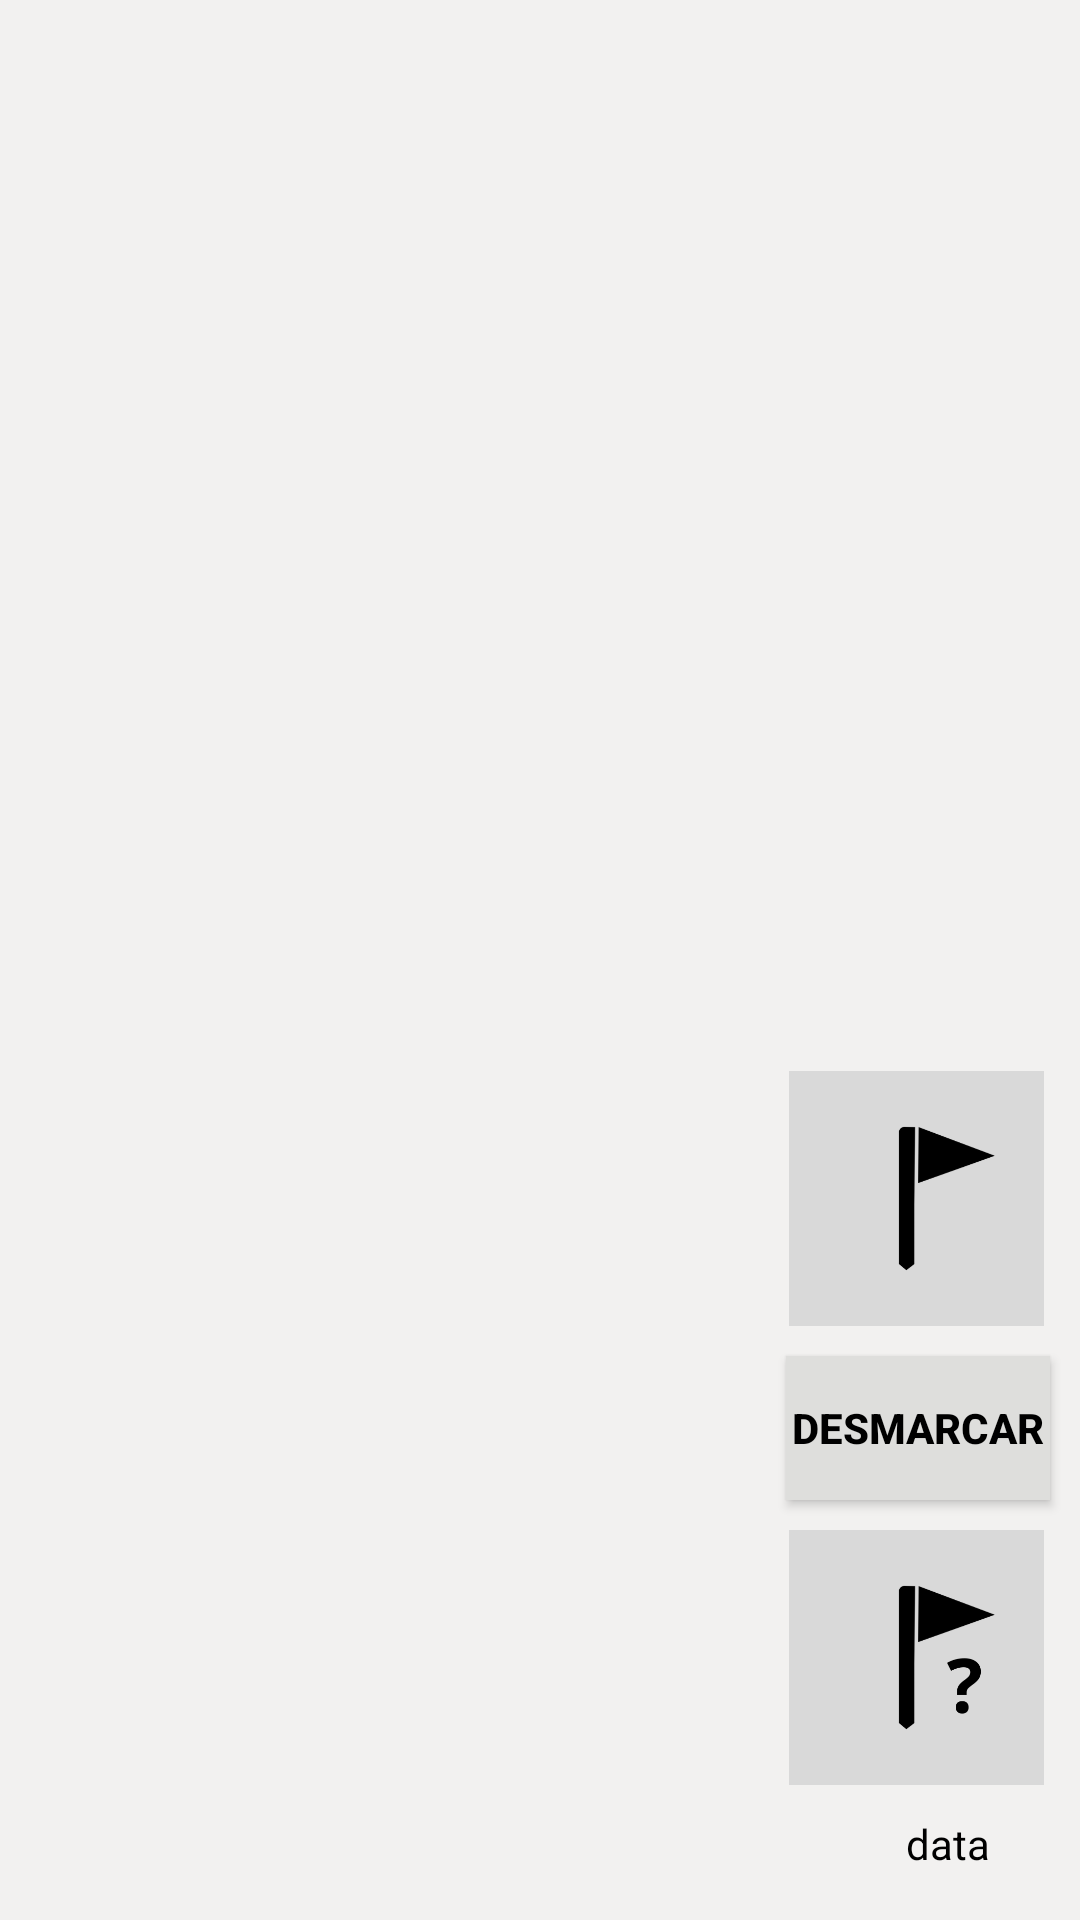

Point at icon controls on the screen. Image size 1080*1920, points as [x,y].
bandeira: [916,1198]
duvida: [916,1657]
